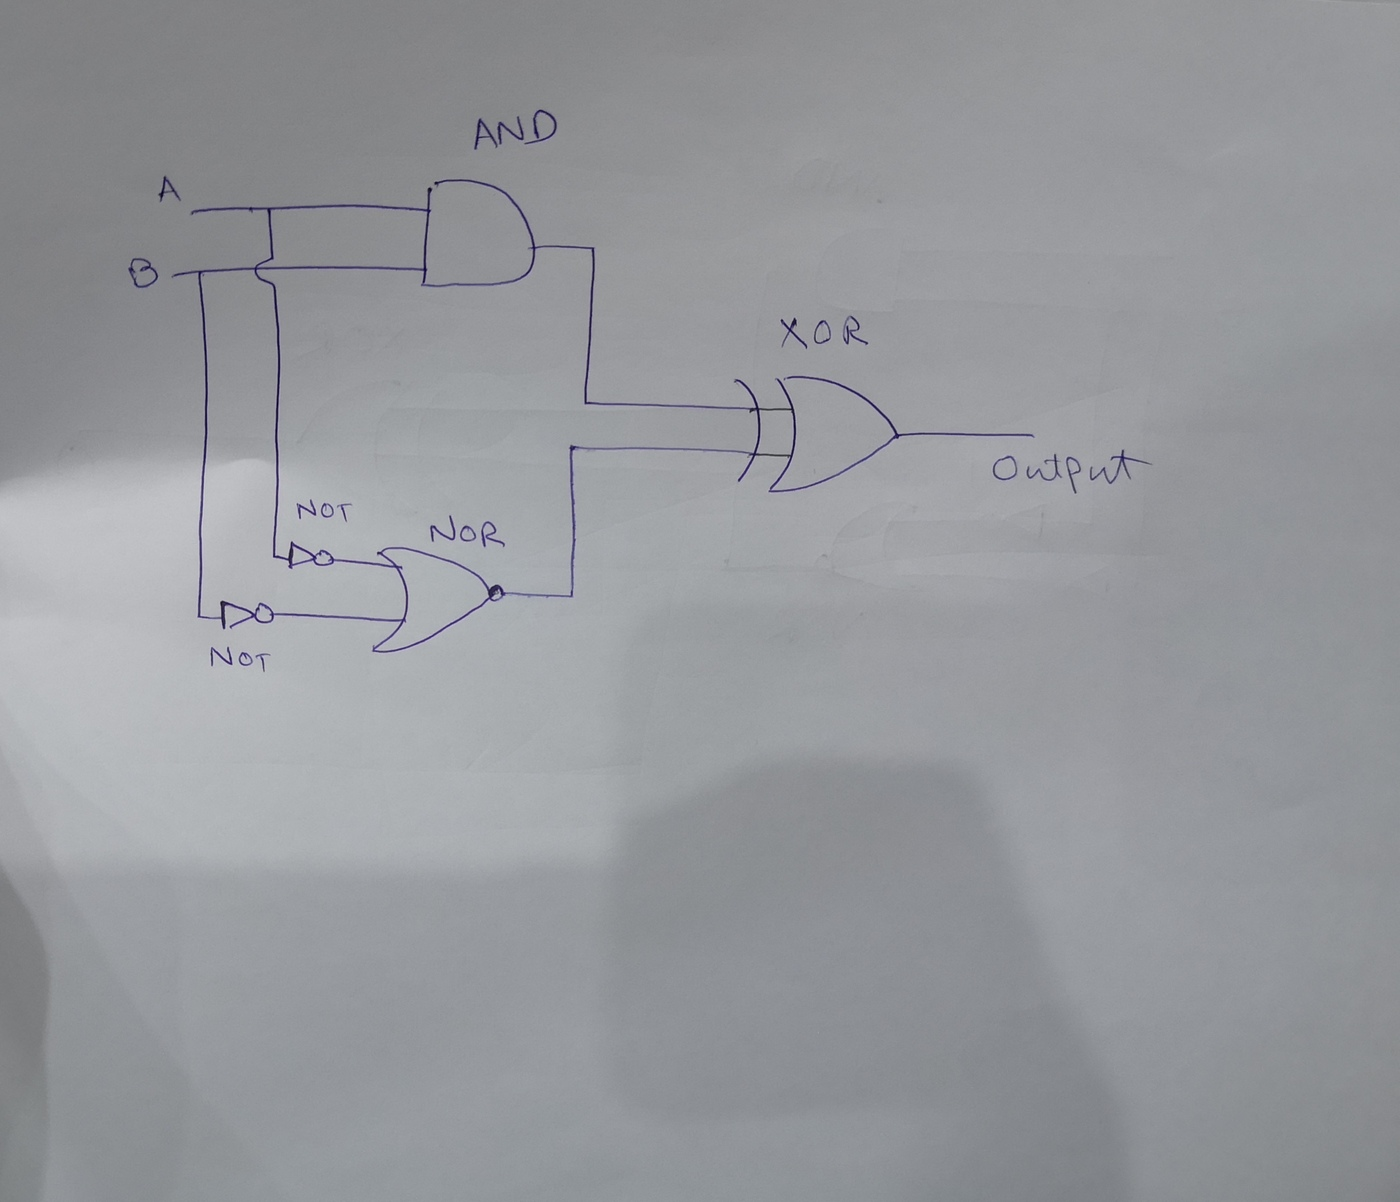and: (413, 173, 542, 293)
crossover: (251, 251, 286, 290)
junction: (560, 586, 580, 605), (583, 238, 604, 256), (267, 547, 283, 565), (190, 265, 210, 281), (260, 201, 279, 215), (579, 396, 593, 411), (190, 611, 206, 622), (565, 440, 577, 453)
nor: (365, 541, 510, 659)
not: (217, 595, 279, 634), (283, 540, 344, 572)
terminal: (1020, 422, 1044, 444), (165, 268, 185, 284), (185, 204, 204, 219)
text: (987, 444, 1151, 497), (771, 309, 877, 353), (470, 106, 563, 154), (424, 515, 511, 553), (206, 643, 271, 674), (123, 251, 163, 292), (292, 496, 351, 524), (154, 171, 185, 204)
xor: (720, 367, 912, 500)
